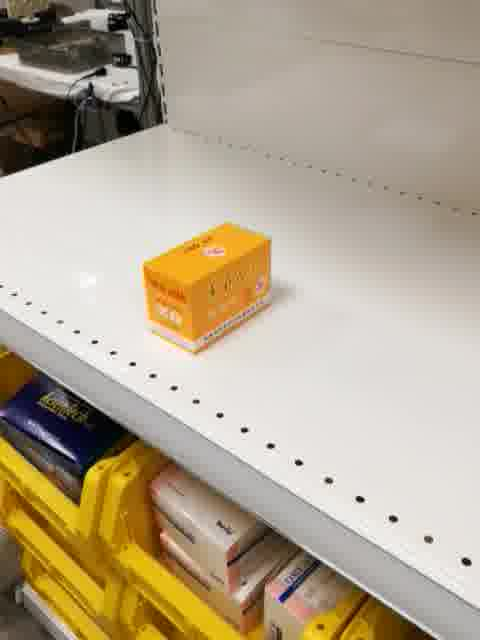jasminetea: (140, 217, 274, 357)
